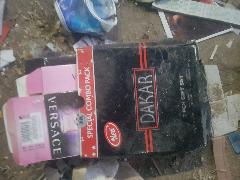paper: (77, 40, 211, 158), (152, 0, 240, 26), (54, 1, 118, 36), (85, 158, 119, 180), (0, 49, 15, 67)
